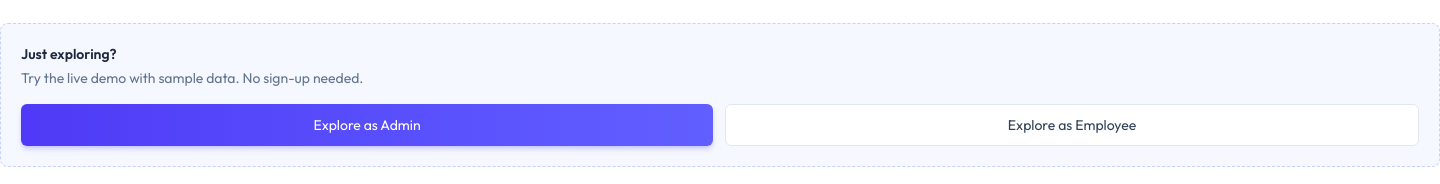
Test: DemoLogin › shows the server message when the demo is unavailable
The width and height of the screenshot is (1440, 184).
Click the button "Explore as Admin" at [367, 125], box [21,104,713,146]
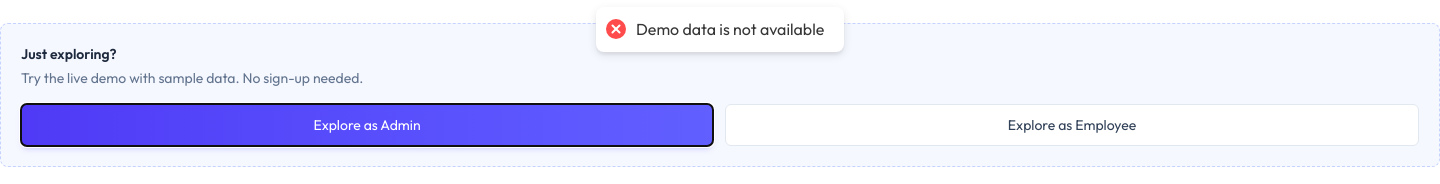
Expected: the text "Demo data is not available" is shown, [636,19,824,40]
